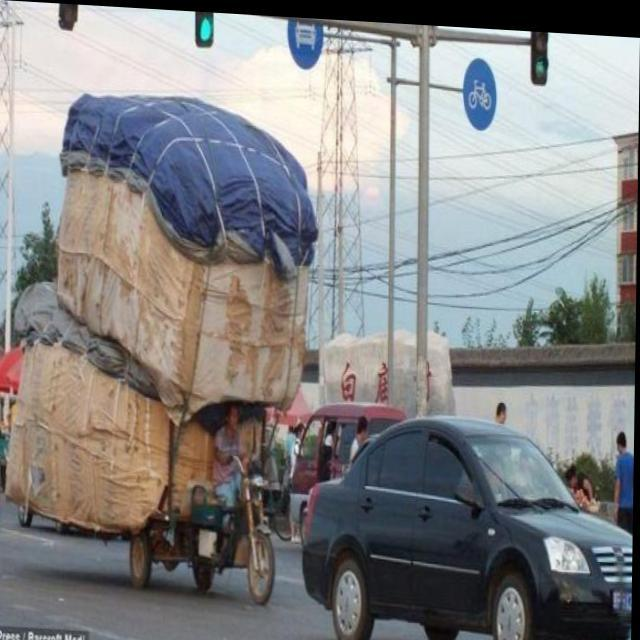covered: (15, 100, 294, 541)
